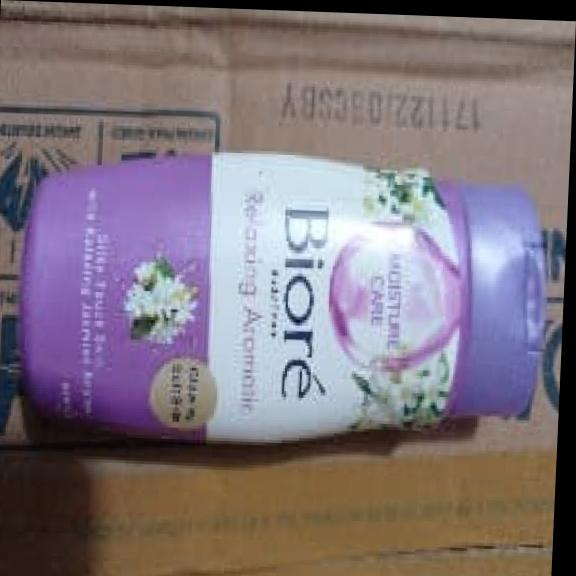Plastik: (21, 154, 531, 458)
